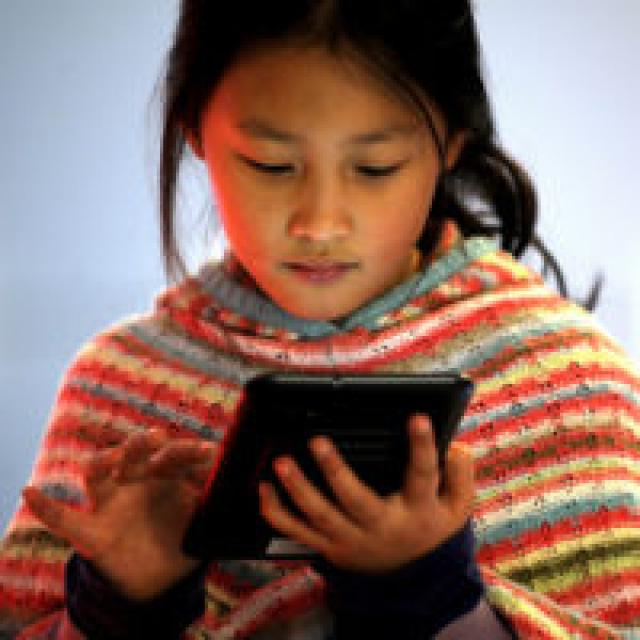mobile_phonerotation: (179, 368, 474, 563)
